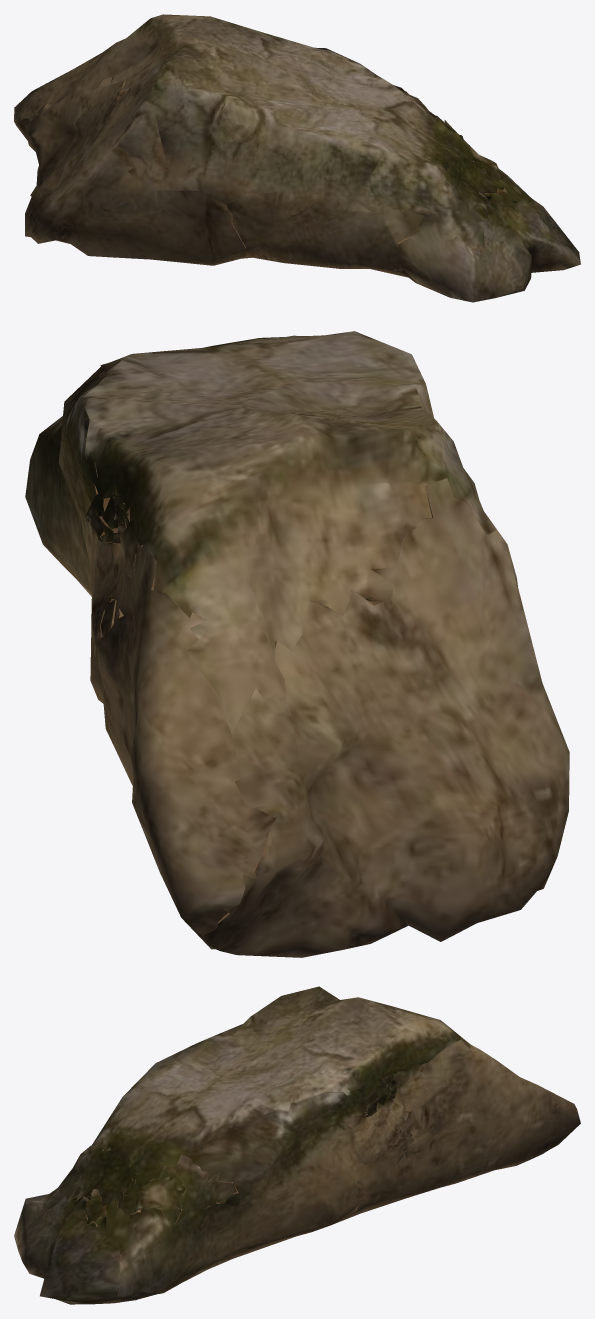
File: pr_moss_a_04.fbx
The picture shows the model from 3 angles, top to bottom: view 1: azimuth 30°, elevation 25°; view 2: azimuth 150°, elevation 25°; view 3: azimuth 270°, elevation 25°; orthographic projection. The views are drawn at different scales.
Visible parts, largest first — view 1: pr_moss_a_04_LOD0; view 2: pr_moss_a_04_LOD0; view 3: pr_moss_a_04_LOD0.
Part boxes in pixels (x1,y1,x2,y2): pr_moss_a_04_LOD0: (14,14,580,302); pr_moss_a_04_LOD0: (25,331,569,957); pr_moss_a_04_LOD0: (14,986,580,1304).
Size of what is drawn, in the model's own units: 2.65 by 1.26 by 3.26.
